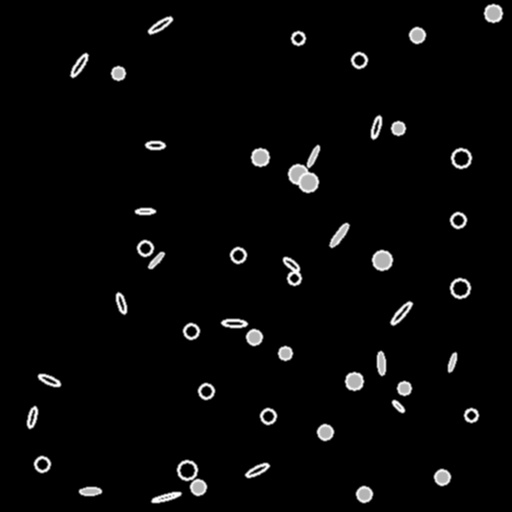pseudomonas: (389, 300, 413, 326), (328, 222, 350, 248), (69, 52, 89, 78), (147, 15, 173, 35), (244, 461, 270, 479), (38, 372, 60, 388), (152, 491, 180, 503), (147, 251, 165, 269), (306, 145, 320, 167), (282, 256, 300, 272), (370, 115, 382, 139), (115, 292, 127, 314), (27, 406, 37, 428), (447, 352, 457, 372), (391, 399, 405, 413), (79, 487, 101, 495), (377, 352, 385, 374), (222, 320, 246, 326), (135, 208, 155, 214), (145, 142, 165, 148)
synechocystis: (452, 149, 470, 167), (178, 461, 196, 479), (451, 279, 469, 297), (289, 165, 307, 183), (373, 251, 391, 269), (299, 173, 317, 191), (346, 373, 362, 389), (252, 149, 268, 165), (485, 5, 501, 21), (199, 384, 213, 398), (410, 28, 424, 42), (318, 425, 332, 439), (352, 53, 366, 67), (357, 487, 371, 501), (435, 470, 449, 484), (191, 480, 205, 494), (35, 457, 49, 471), (247, 330, 261, 344), (261, 409, 275, 423), (451, 213, 465, 227), (184, 324, 198, 338), (138, 241, 152, 255), (231, 248, 245, 262), (465, 409, 477, 421), (392, 122, 404, 134), (112, 67, 124, 79), (398, 382, 410, 394), (292, 32, 304, 44), (279, 347, 291, 359), (288, 272, 300, 284)
